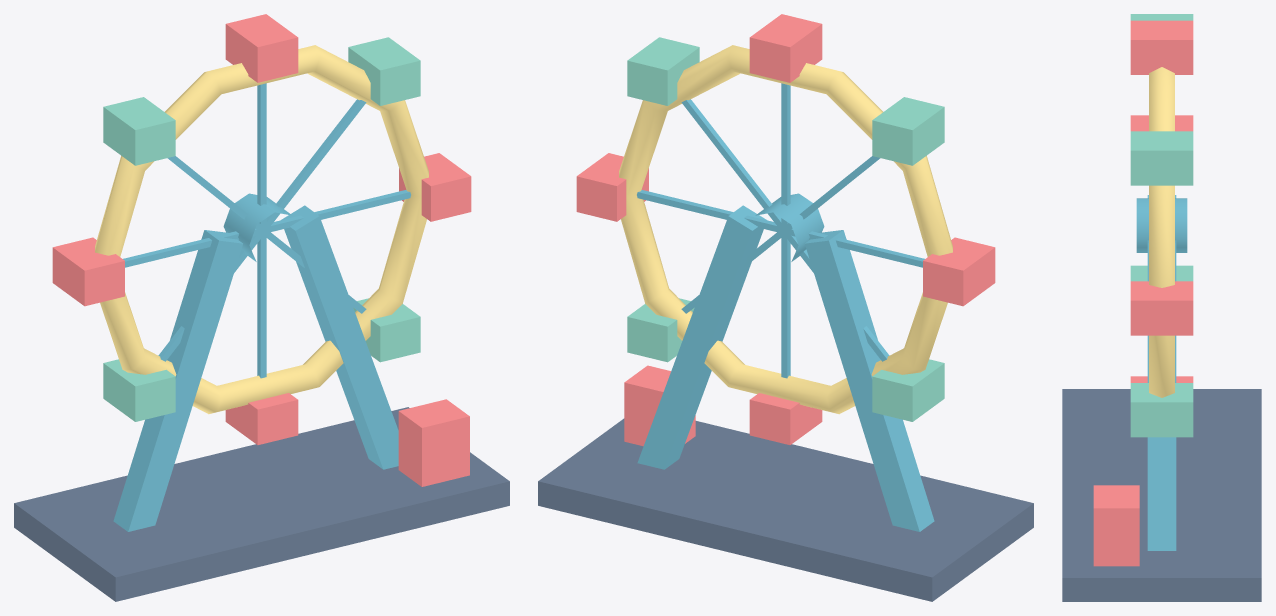
File: park-ferris-wheel-pixel-8bit-3d.glb
3 renders of one model, left to right at view 1: azimuth 30°, elevation 25°; view 2: azimuth 150°, elevation 25°; view 3: azimuth 270°, elevation 25°, orthographic.
Parts seen in each view (by area): view 1: base-platform, wheel-ring, support-a, support-b, control-box, gondola-3, gondola-2, gondola-4, gondola-1, gondola-5, gondola-0, gondola-6 (+8 smaller); view 2: base-platform, wheel-ring, support-a, support-b, gondola-3, gondola-2, gondola-4, gondola-1, gondola-5, gondola-0, gondola-6, control-box (+8 smaller); view 3: base-platform, wheel-ring, control-box, support-b, gondola-1, gondola-2, gondola-0, gondola-7, drive-hub, gondola-4, gondola-5, gondola-3.
Part boxes in pixels (x1,y1,x2,y2): base-platform: (14, 407, 509, 601); wheel-ring: (95, 45, 428, 414); support-a: (113, 230, 242, 531); support-b: (281, 205, 398, 469); control-box: (398, 399, 469, 486); gondola-3: (103, 97, 175, 165); gondola-2: (225, 14, 298, 82); gondola-4: (52, 237, 124, 306); gondola-1: (348, 37, 420, 105); gondola-5: (103, 359, 175, 421); gondola-0: (399, 153, 471, 221); gondola-6: (225, 393, 298, 444); base-platform: (538, 418, 1033, 601); wheel-ring: (619, 45, 952, 414); support-a: (805, 230, 934, 531); support-b: (637, 205, 766, 469); gondola-3: (872, 97, 944, 165); gondola-2: (749, 14, 822, 82); gondola-4: (923, 237, 995, 306); gondola-1: (627, 37, 699, 105); gondola-5: (872, 359, 944, 421); gondola-0: (576, 153, 648, 221); gondola-6: (749, 393, 822, 444); control-box: (624, 365, 695, 446); base-platform: (1062, 389, 1261, 601); wheel-ring: (1149, 67, 1174, 397); control-box: (1093, 485, 1139, 566); support-b: (1147, 240, 1176, 550); gondola-1: (1130, 131, 1193, 185); gondola-2: (1130, 20, 1193, 74); gondola-0: (1130, 281, 1193, 335); gondola-7: (1130, 383, 1193, 437); drive-hub: (1136, 198, 1187, 252); gondola-4: (1130, 115, 1193, 131); gondola-5: (1130, 265, 1193, 281); gondola-3: (1130, 14, 1193, 20).
Size of the model in its own units: 7.4 by 8.89 by 3.3.
